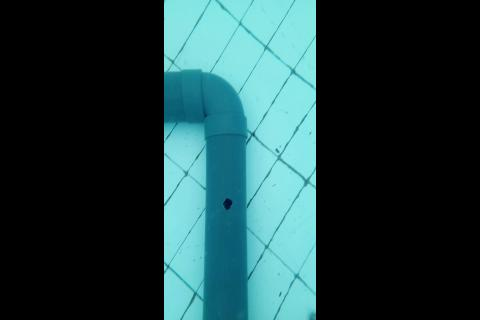kebocoran: (221, 196, 234, 212)
